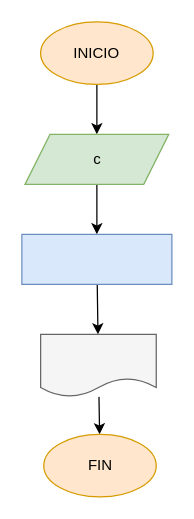
Image size: 194x519. Some labels were removed from this diagram. Each missing label, with the box of its shape:
f=(9/5*c)+32 k=c+273.15: (21, 233, 172, 284)
k,f: (39, 333, 156, 397)
